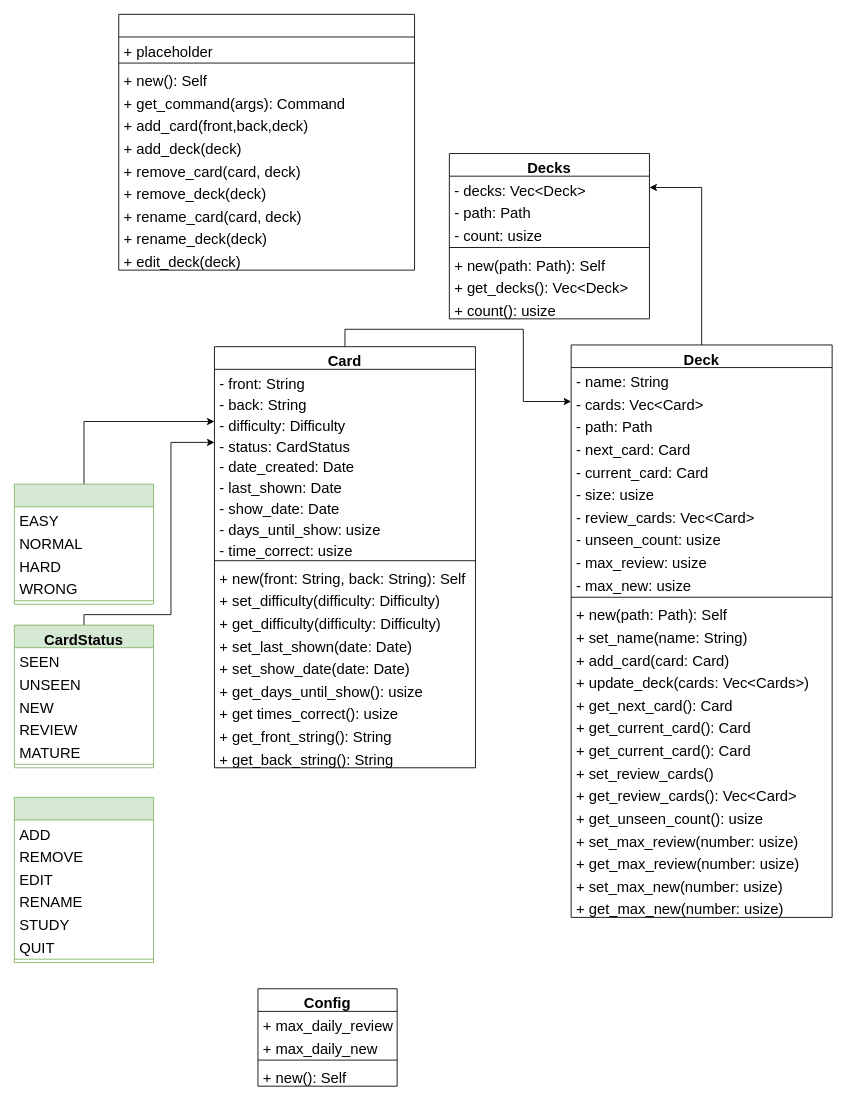
The diagram is 847 pixels wide and 1101 high, and some of its shapes have lost their labels. The shapes that lost their labels are listed below. From the top down, each one's box as (x1, y1, x2, y2) in pixels, then its label:
(118, 13, 415, 270): CLI
(13, 483, 154, 604): Difficulty
(13, 796, 154, 963): Command
